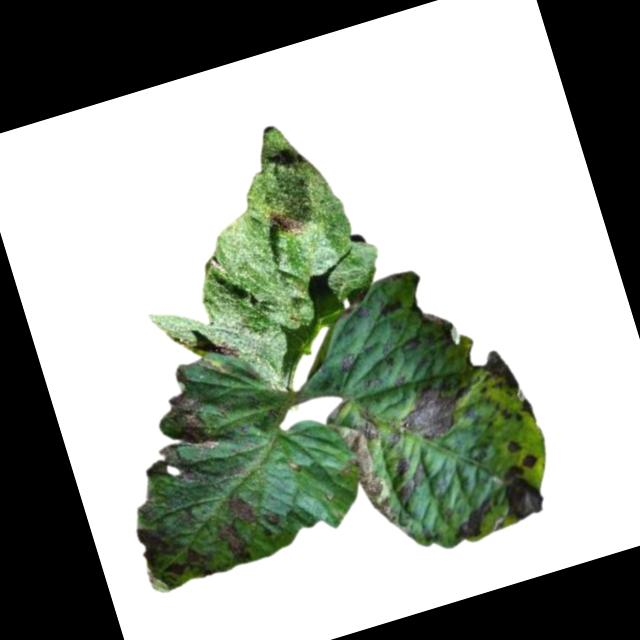Early_blight: (127, 490, 211, 596), (335, 407, 401, 532), (388, 371, 479, 448), (154, 359, 216, 443), (476, 344, 536, 429), (138, 435, 215, 501), (488, 452, 551, 523), (212, 516, 256, 568), (449, 498, 497, 542), (388, 458, 431, 506), (263, 202, 306, 243), (224, 486, 258, 529), (213, 336, 240, 362), (376, 295, 406, 318), (333, 350, 359, 375), (501, 434, 526, 455), (391, 456, 413, 479)
